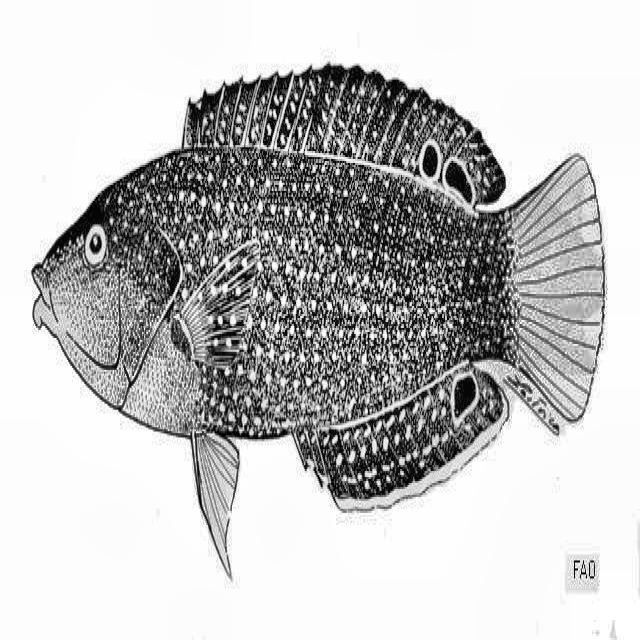fish: (30, 62, 606, 580)
